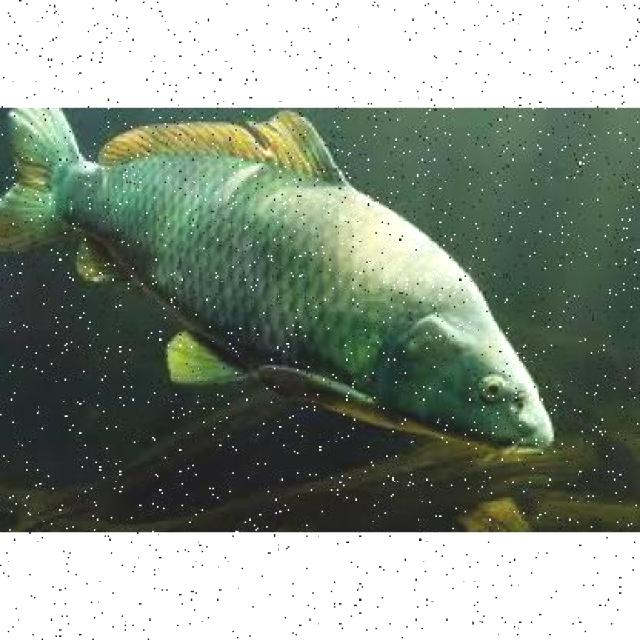ikan-mas: (1, 106, 560, 463)
